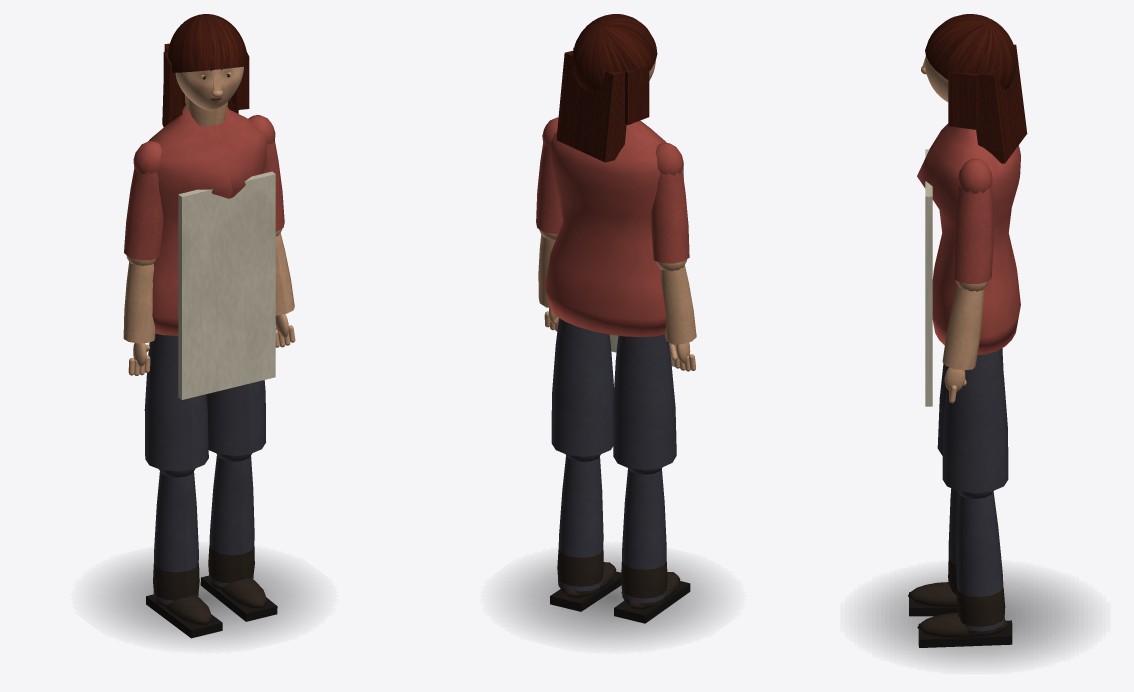
The model's file is npc_cass.glb.
The picture shows the model from 3 angles, left to right: view 1: azimuth 30°, elevation 25°; view 2: azimuth 150°, elevation 25°; view 3: azimuth 270°, elevation 25°; orthographic projection. The views are drawn at different scales.
Parts seen in each view (by area): view 1: chest, object 11, head, shinL, shinR, legL, legR, armL, foreL, foreR, armR; view 2: chest, head, object 11, legL, legR, shinR, shinL, armL, foreL, armR, foreR; view 3: chest, head, object 11, shinR, legR, armR, foreR, shinL, legL.
Boxes of the visible parts, box(x1,y1,x2,y2) form: chest: box(148, 95, 275, 399); object 11: box(98, 552, 310, 642); head: box(162, 14, 249, 127); shinL: box(146, 468, 222, 638); shinR: box(200, 453, 277, 621); legL: box(144, 333, 208, 471); legR: box(206, 380, 265, 455); armL: box(124, 141, 163, 260); foreL: box(123, 255, 155, 375); foreR: box(275, 229, 295, 347); armR: box(248, 115, 284, 231); chest: box(545, 120, 683, 366); head: box(556, 14, 657, 162); object 11: box(507, 553, 719, 642); legL: box(613, 334, 676, 469); legR: box(551, 318, 613, 456); shinR: box(550, 454, 621, 611); shinL: box(614, 467, 690, 623); armL: box(651, 143, 689, 263); foreL: box(656, 259, 696, 371); armR: box(536, 117, 563, 234); foreR: box(538, 229, 558, 331); chest: box(917, 123, 1020, 406); head: box(921, 14, 1027, 163); object 11: box(867, 573, 1083, 662); shinR: box(917, 491, 1012, 647); legR: box(942, 349, 1008, 493); armR: box(953, 158, 993, 283); foreR: box(942, 280, 987, 403); shinL: box(908, 488, 958, 616); legL: box(937, 348, 1003, 455).
Bounding box in the file's own units: 0.77 × 1.79 × 0.77.
Materials: 6 (5 with a texture image).
